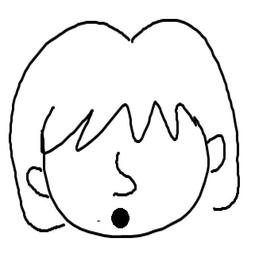ear: (201, 133, 232, 176), (20, 164, 55, 202)
nose: (97, 144, 142, 200)
open_mouth: (101, 203, 138, 232)
